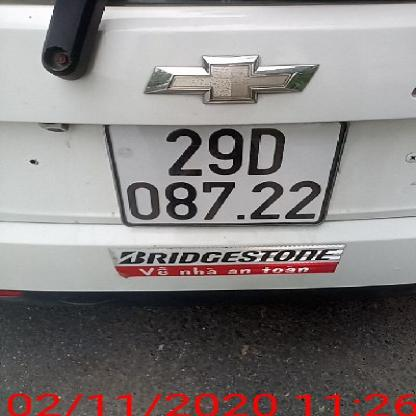biensoxe: (102, 115, 338, 228)
